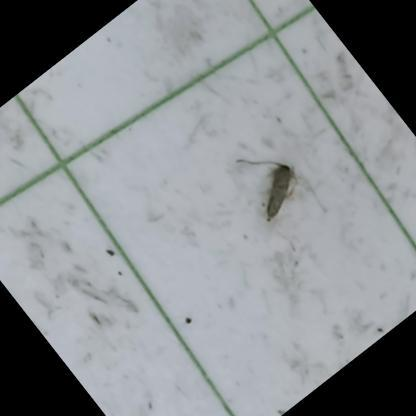prays_oleae: (220, 146, 324, 251)
